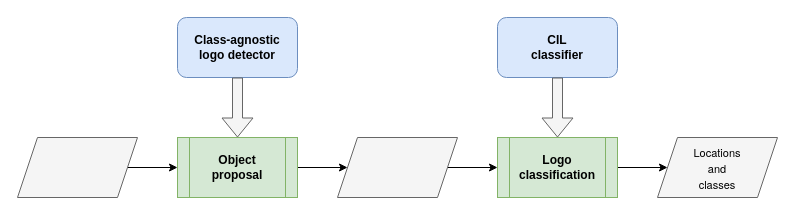
The diagram is 795 pixels wide and 215 high, and some of its shapes have lost their labels. Each missing label, with the centre of its shape:
"Input image" belongs at (x=77, y=167).
"Region of Interests (ROIs)" belongs at (x=397, y=167).
